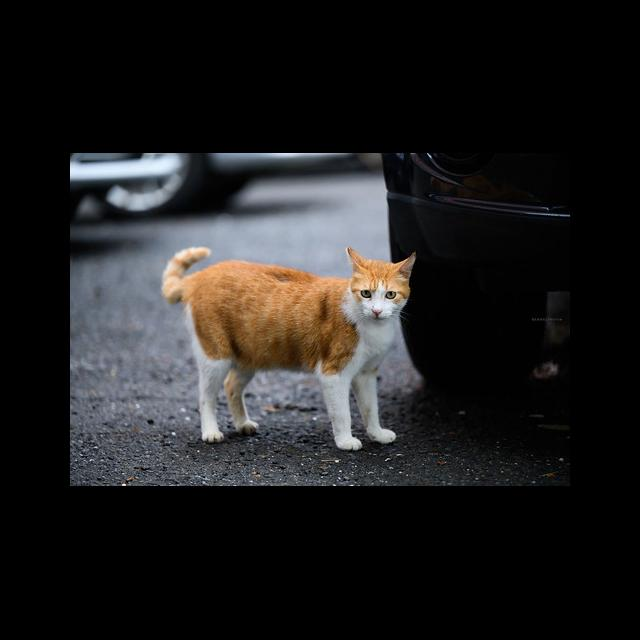animals: (162, 248, 416, 451)
